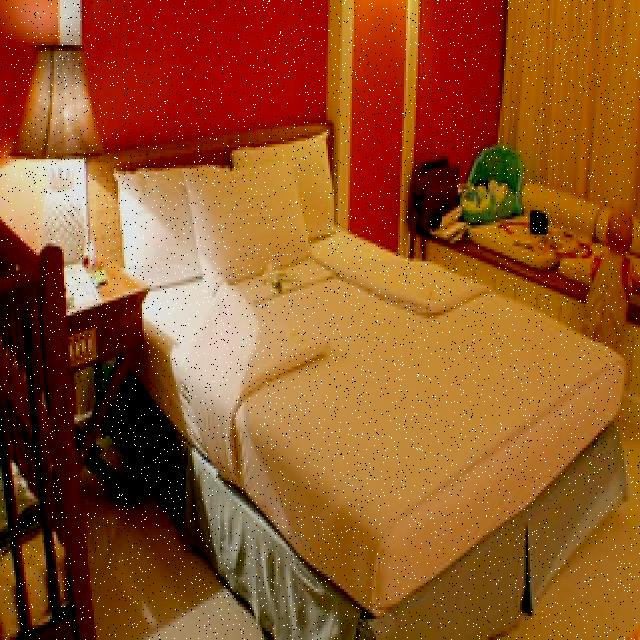bed: (110, 131, 631, 600)
